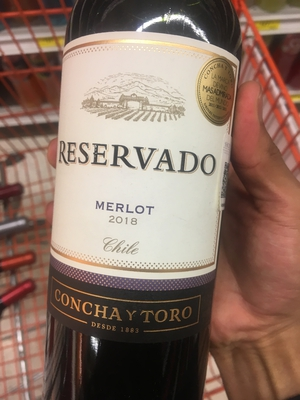reservado merlot: (49, 1, 244, 400)
